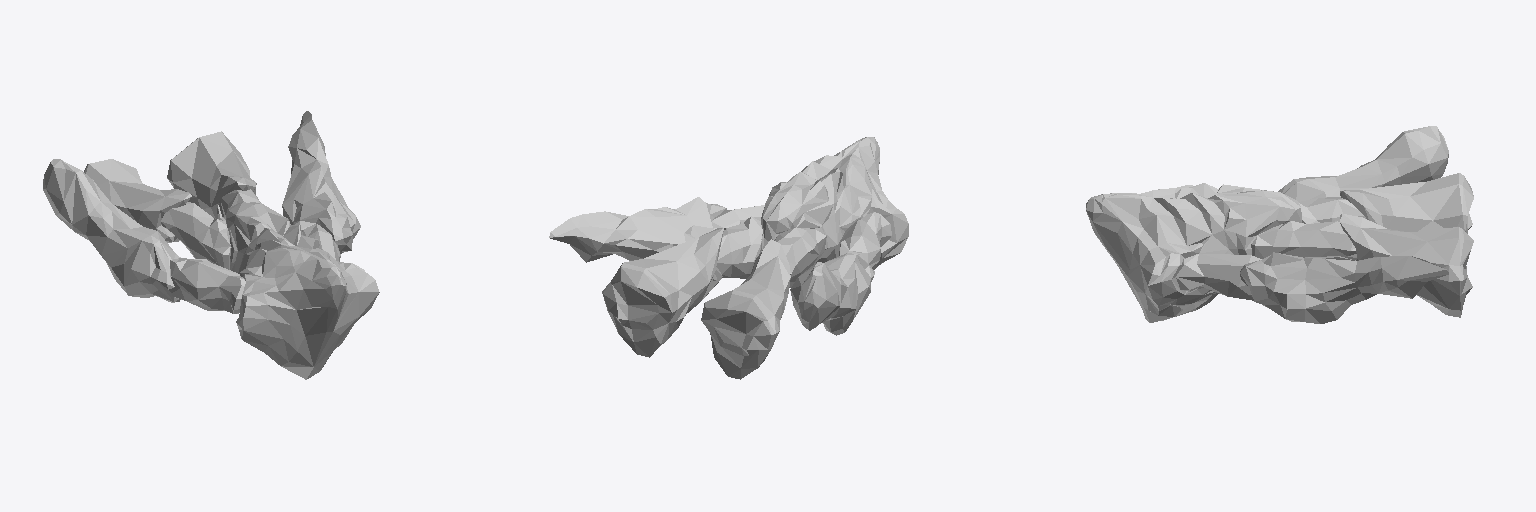
File: atronachhielo.obj
3 renders of one model, left to right at view 1: azimuth 30°, elevation 25°; view 2: azimuth 150°, elevation 25°; view 3: azimuth 270°, elevation 25°, orthographic.
Visible parts, largest first — view 1: FrostAtronach03; view 2: FrostAtronach03; view 3: FrostAtronach03.
Boxes of the visible parts, box(x1,y1,x2,y2) form: FrostAtronach03: box(43, 111, 379, 379); FrostAtronach03: box(549, 137, 908, 379); FrostAtronach03: box(1086, 126, 1473, 323).
Bounding box in the file's own units: 136 × 68.76 × 170.